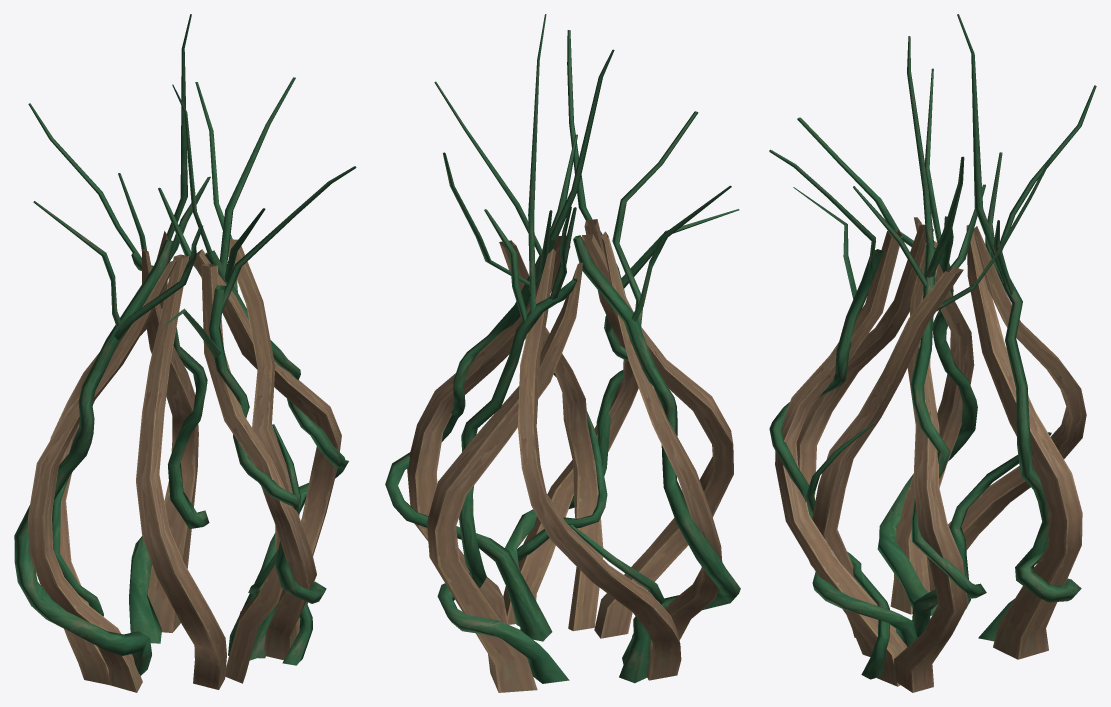
The model's file is Homeworld_Exterior_Common_Flower_Decoration_Green_01_C_Lod0.fbx.
The picture shows the model from 3 angles, left to right: view 1: azimuth 30°, elevation 25°; view 2: azimuth 150°, elevation 25°; view 3: azimuth 270°, elevation 25°; orthographic projection.
Parts seen in each view (by area): view 1: Homeworld_Exterior_Common_Flower_Decoration_Green_01_C_Lod0; view 2: Homeworld_Exterior_Common_Flower_Decoration_Green_01_C_Lod0; view 3: Homeworld_Exterior_Common_Flower_Decoration_Green_01_C_Lod0.
Boxes of the visible parts, x1,y1,x2,y2 form: Homeworld_Exterior_Common_Flower_Decoration_Green_01_C_Lod0: (14,14,356,692); Homeworld_Exterior_Common_Flower_Decoration_Green_01_C_Lod0: (385,14,740,692); Homeworld_Exterior_Common_Flower_Decoration_Green_01_C_Lod0: (769,14,1096,692).
Bounding box in the file's own units: 1.06 × 1.94 × 0.9015.
Materials: 1 (1 with a texture image).
